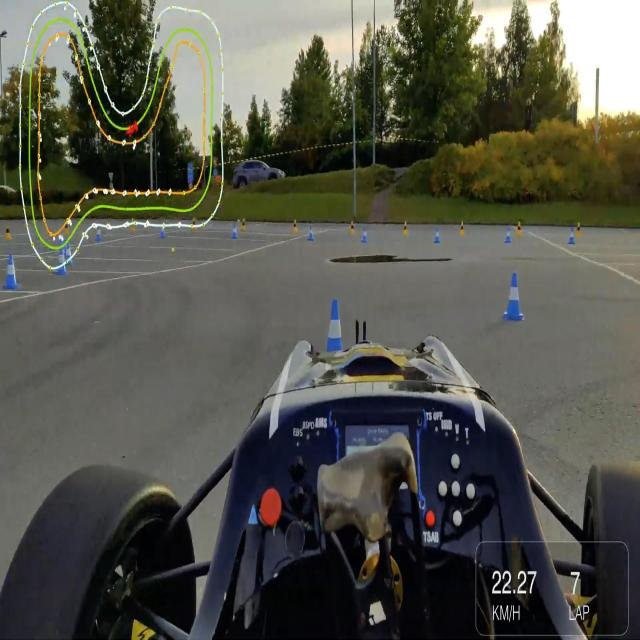blue_cone: (321, 282, 347, 364), (501, 264, 526, 330), (3, 246, 24, 294)
